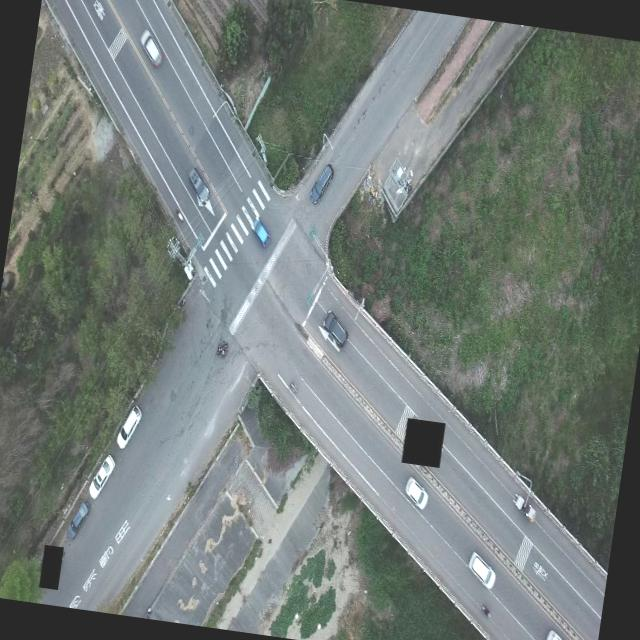bike: (478, 602, 491, 618)
car: (89, 452, 117, 500), (466, 548, 498, 589), (136, 28, 166, 68), (321, 311, 352, 349), (116, 404, 142, 449), (185, 165, 212, 208), (310, 161, 334, 204), (509, 491, 538, 522), (68, 500, 90, 540), (404, 476, 431, 508), (250, 217, 272, 250), (541, 626, 576, 640)
